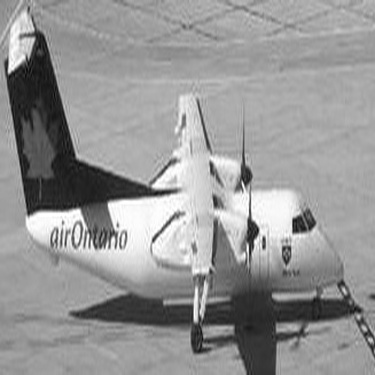airplane: (3, 5, 355, 352)
